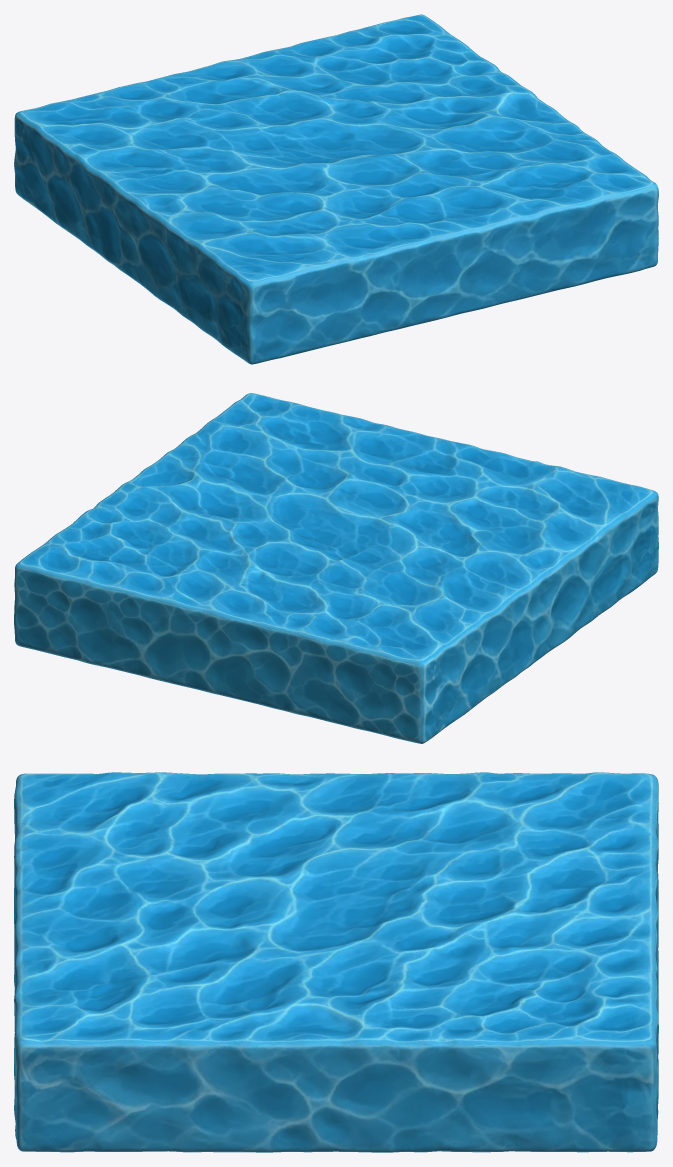
Rendered from river-tile.glb.
3 views of the same model, one above another, from view 1: azimuth 30°, elevation 25°; view 2: azimuth 150°, elevation 25°; view 3: azimuth 270°, elevation 25° (orthographic). The views are drawn at different scales.
Bounding box in the file's own units: 1.9 × 0.3888 × 1.9.
Materials: 1 (1 with a texture image).
